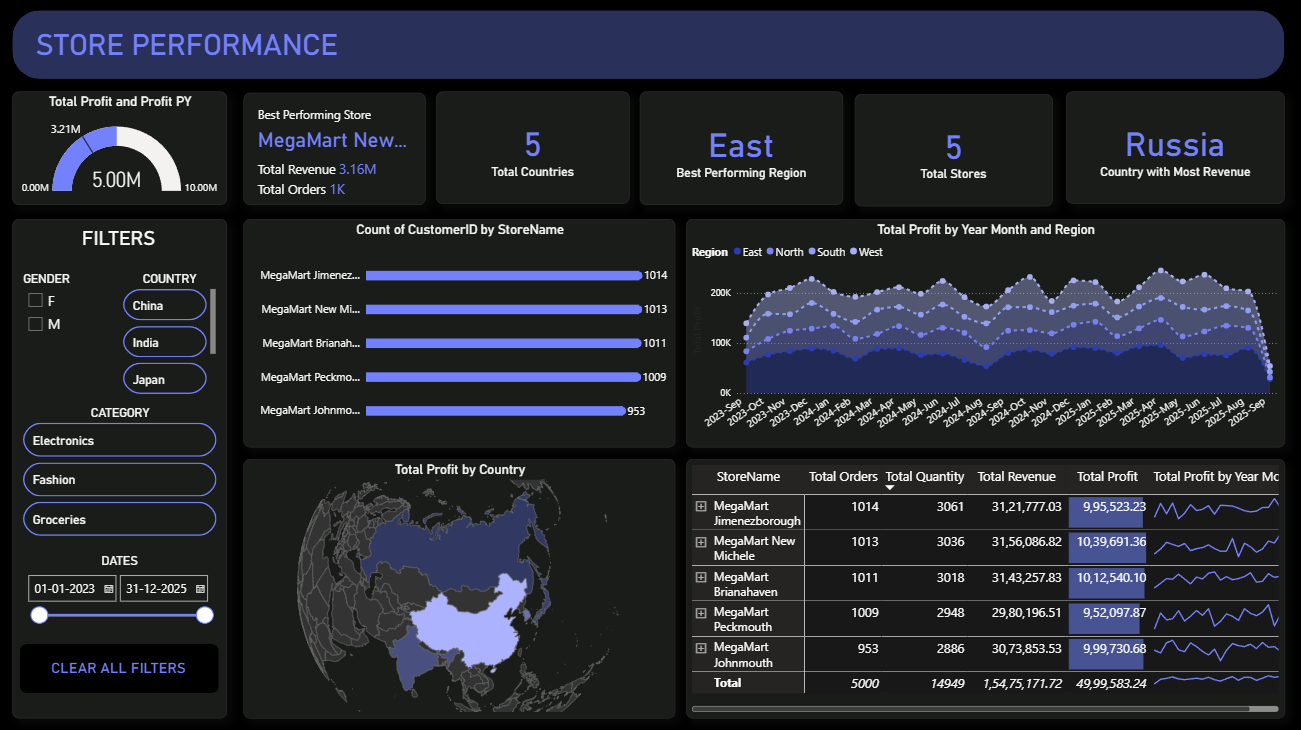

What the dashboard file says about the page in this screenshot:
{"tool":"powerbi","page":{"name":"Store Performance","canvas":[1920,1080],"ordinal":2},"visuals":[{"type":"shape","box":[24.7,16.5,1866.9,100.9],"z":0},{"type":"stackedAreaChart","fields":{"Category":["Dates.Year Month"],"Series":["stores.Region"],"Y":["Measures Table.Total Profit"]},"box":[1012.7,323.2,878.9,335.5],"z":1000},{"type":"pivotTable","fields":{"Rows":["stores.StoreName","products.Category","products.SubCategory"],"Values":["Measures Table.Total Orders","Measures Table.Total Quantity","Measures Table.Total Revenue","Measures Table.Total Profit","SparklineData(Measures Table.Total Profit_[Dates.Year Month])"]},"box":[1012.7,675.1,878.9,380.8],"z":2000},{"type":"shapeMap","fields":{"Category":["stores.Country"],"Value":["Measures Table.Total Profit"]},"box":[362.3,675.1,634,380.8],"z":3000},{"type":"clusteredBarChart","fields":{"Category":["stores.StoreName"],"Y":["CountNonNull(transactions.CustomerID)"]},"box":[362.3,323.2,634,335.5],"z":4000},{"type":"group","id":"g1","title":"Group 1","box":[24.7,323.2,314.9,732.8],"z":5000},{"type":"textbox","box":[53.5,37,504.3,80.3],"z":6000},{"type":"gauge","fields":{"Y":["Measures Table.Total Profit"],"TargetValue":["Measures Table.Profir PY"]},"box":[24.7,135.8,314.9,166.7],"z":7000},{"type":"cardVisual","fields":{"Data":["Min(stores.StoreName)"]},"box":[362.3,137.9,267.6,164.7],"z":8000},{"type":"card","fields":{"Values":["Min(stores.Region)"]},"box":[944.8,135.8,298.5,166.7],"z":9000},{"type":"card","fields":{"Values":["Measures Table.Total Stores"]},"box":[1259.7,140,290.2,164.7],"z":10000},{"type":"shape","box":[24.7,323.2,314.9,732.8],"z":10000,"group":"g1"},{"type":"card","fields":{"Values":["Min(stores.Country)"]},"box":[1570.5,135.8,321.1,164.7],"z":11000},{"type":"card","fields":{"Values":["Count(stores.Country)"]},"box":[646.3,135.8,284,164.7],"z":12000},{"type":"advancedSlicerVisual","title":"COUNTRY","fields":{"Values":["stores.Country"]},"box":[183.2,399.4,146.1,187.3],"z":12000,"group":"g1"},{"type":"advancedSlicerVisual","title":"CATEGORY","fields":{"Values":["products.Category"]},"box":[35,597,294.3,199.7],"z":13000,"group":"g1"},{"type":"slicer","title":"GENDER","fields":{"Values":["customers.Gender"]},"box":[35,399.4,148.2,160.5],"z":14000,"group":"g1"},{"type":"slicer","title":"DATES","fields":{"Values":["Dates.Date"]},"box":[35,815.1,292.3,117.3],"z":15000,"group":"g1"},{"type":"shape","title":"CLEAR ALL FILTER","box":[35,946.9,292.3,72],"z":16000,"group":"g1"},{"type":"textbox","box":[53.5,965.4,253.2,35],"z":17000,"group":"g1"},{"type":"textbox","box":[39.1,328,282,43.2],"z":18000,"group":"g1"}]}

Visuals, with their boxes in screenshot pixels (x1, y1, x2, y2), scaled from the page's 1920x1080 canvas onto the 1301x730 screenshot:
shape: x1=17 y1=11 x2=1282 y2=79
stackedAreaChart - Dates.Year Month x stores.Region: x1=686 y1=218 x2=1282 y2=445
pivotTable - stores.StoreName x products.Category: x1=686 y1=456 x2=1282 y2=714
shapeMap - stores.Country x Measures Table.Total Profit: x1=245 y1=456 x2=675 y2=714
clusteredBarChart - stores.StoreName x CountNonNull(transactions.CustomerID): x1=245 y1=218 x2=675 y2=445
"Group 1" group: x1=17 y1=218 x2=230 y2=714
textbox: x1=36 y1=25 x2=378 y2=79
gauge - Measures Table.Total Profit x Measures Table.Profir PY: x1=17 y1=92 x2=230 y2=204
cardVisual - Min(stores.StoreName): x1=245 y1=93 x2=427 y2=205
card - Min(stores.Region): x1=640 y1=92 x2=842 y2=204
card - Measures Table.Total Stores: x1=854 y1=95 x2=1050 y2=206
shape: x1=17 y1=218 x2=230 y2=714
card - Min(stores.Country): x1=1064 y1=92 x2=1282 y2=203
card - Count(stores.Country): x1=438 y1=92 x2=630 y2=203
"COUNTRY" advancedSlicerVisual: x1=124 y1=270 x2=223 y2=397
"CATEGORY" advancedSlicerVisual: x1=24 y1=404 x2=223 y2=539
"GENDER" slicer: x1=24 y1=270 x2=124 y2=378
"DATES" slicer: x1=24 y1=551 x2=222 y2=630
"CLEAR ALL FILTER" shape: x1=24 y1=640 x2=222 y2=689
textbox: x1=36 y1=653 x2=208 y2=676
textbox: x1=26 y1=222 x2=218 y2=251
